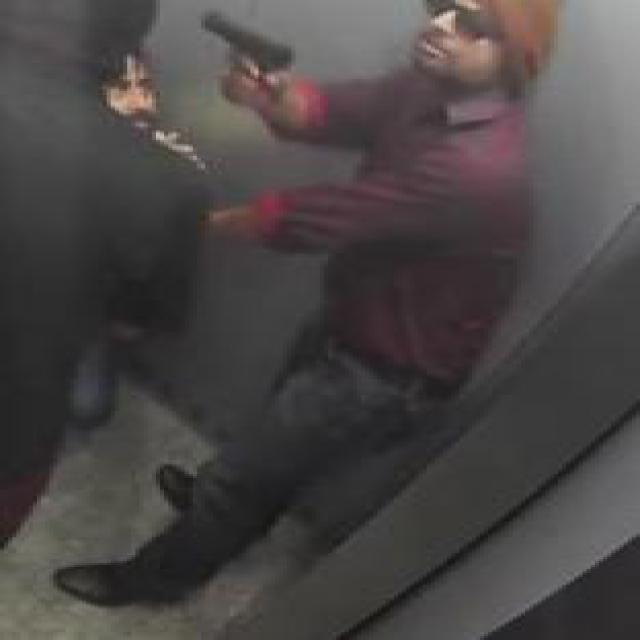Gun: (192, 10, 296, 105)
